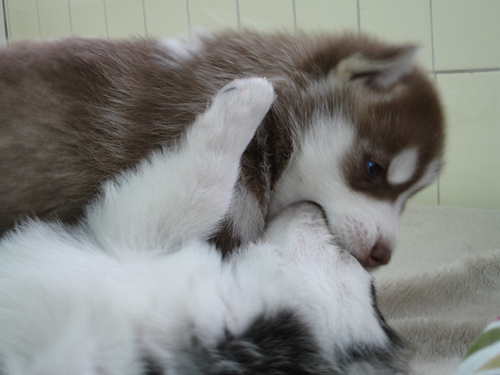dog: (0, 76, 406, 374), (0, 26, 449, 270)
